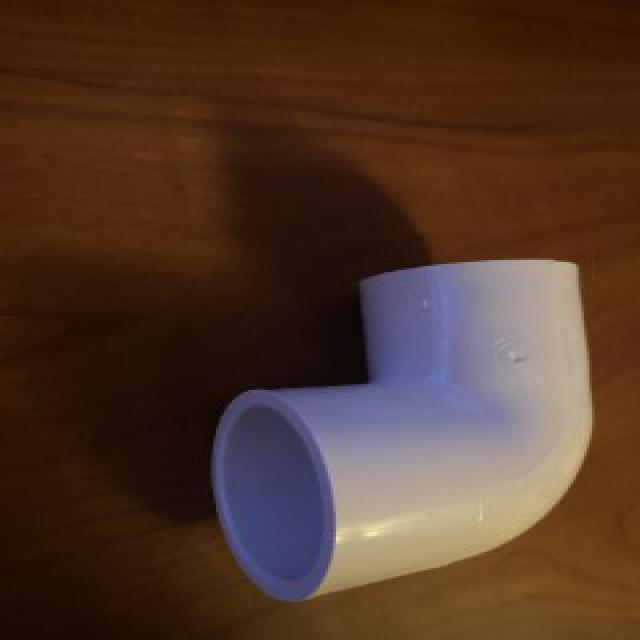L Joint: (210, 259, 593, 606)
